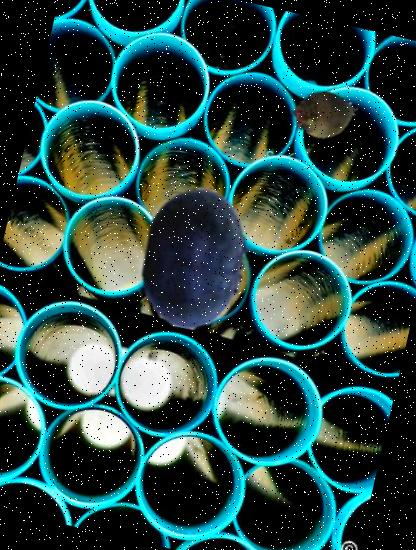Beetroot: (281, 72, 366, 157)
Blueberry: (110, 174, 280, 344)
